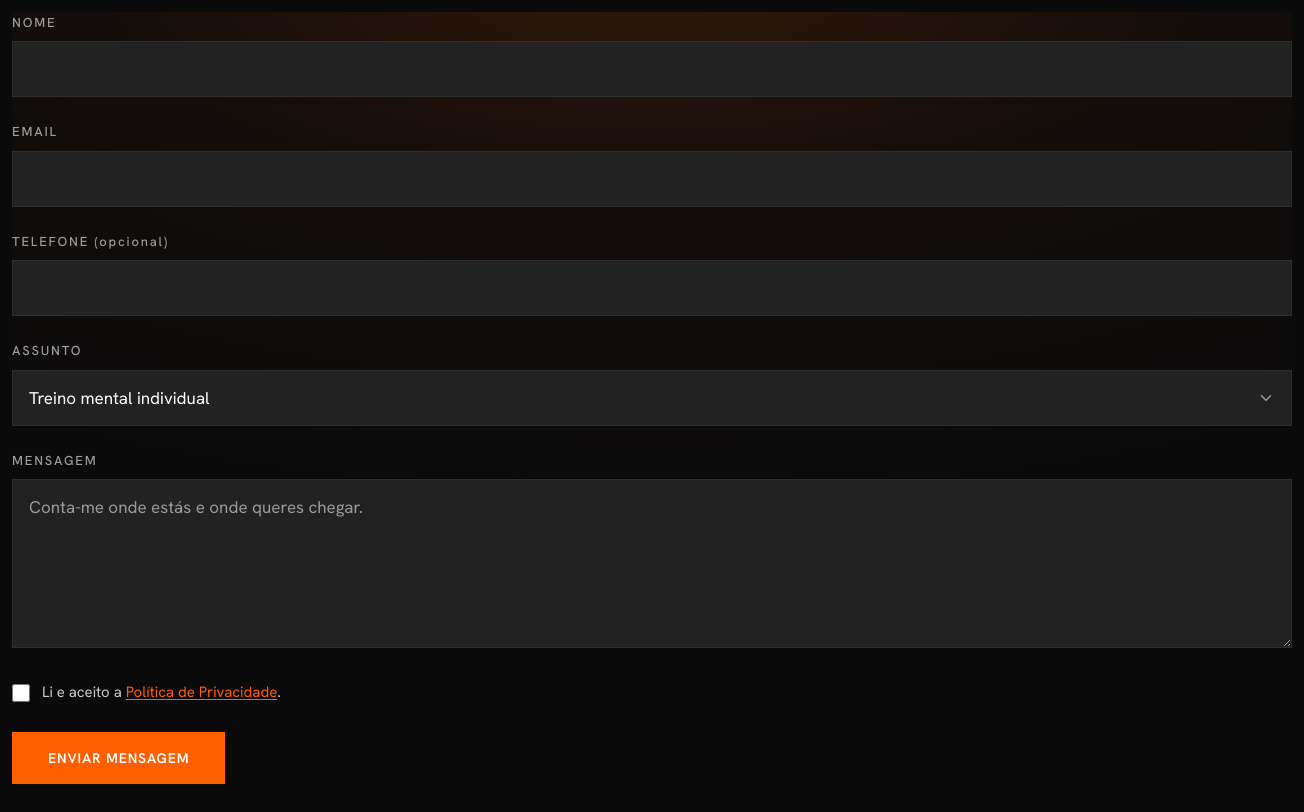
Test: ContactForm › posts the selected subject and entered fields to Formspree
Type "912345678" into the field labelled "Telefone (opcional)" at (652, 288), box [12,260,1292,316]
Select "Palestra / formação" in the dropdown labelled "Assunto" at (652, 398), box [12,370,1292,426]
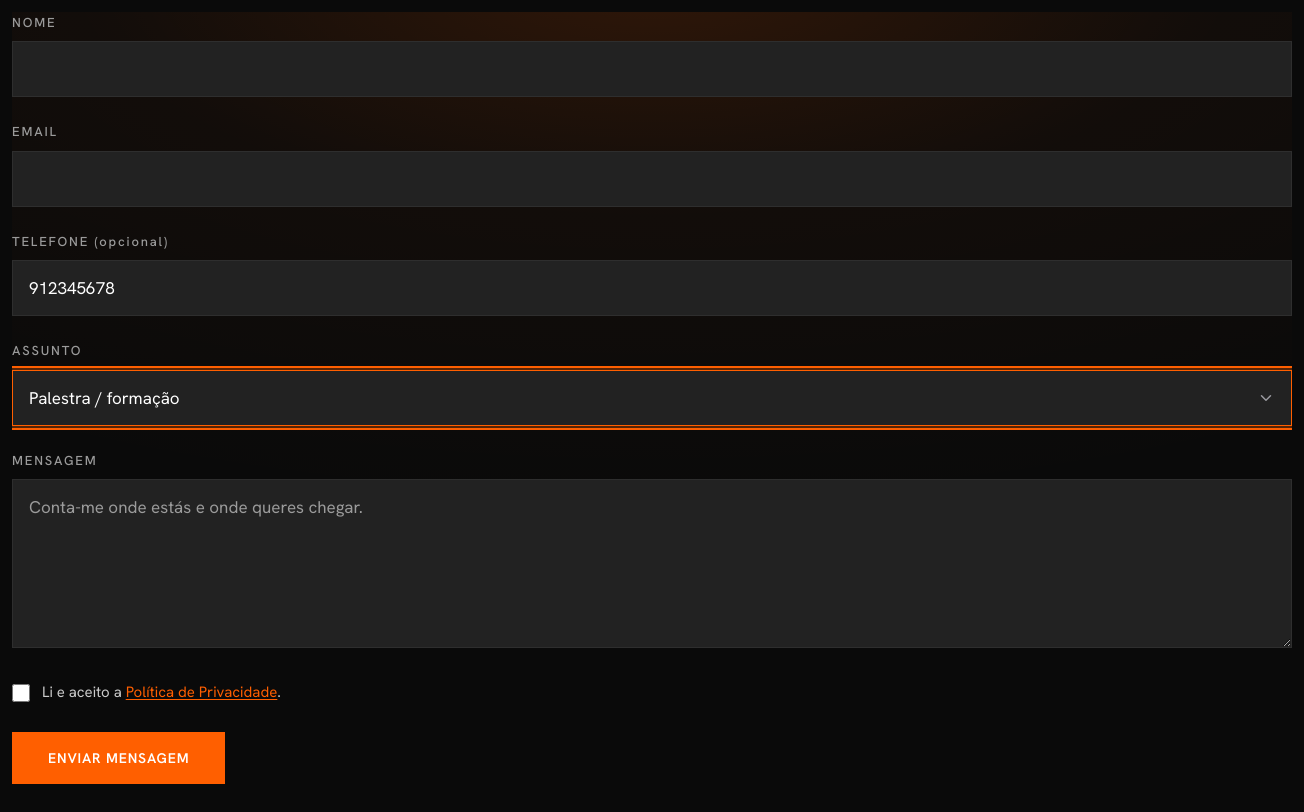
Type "Ana Silva" into the field labelled "Nome" at (652, 69), box [12,41,1292,97]
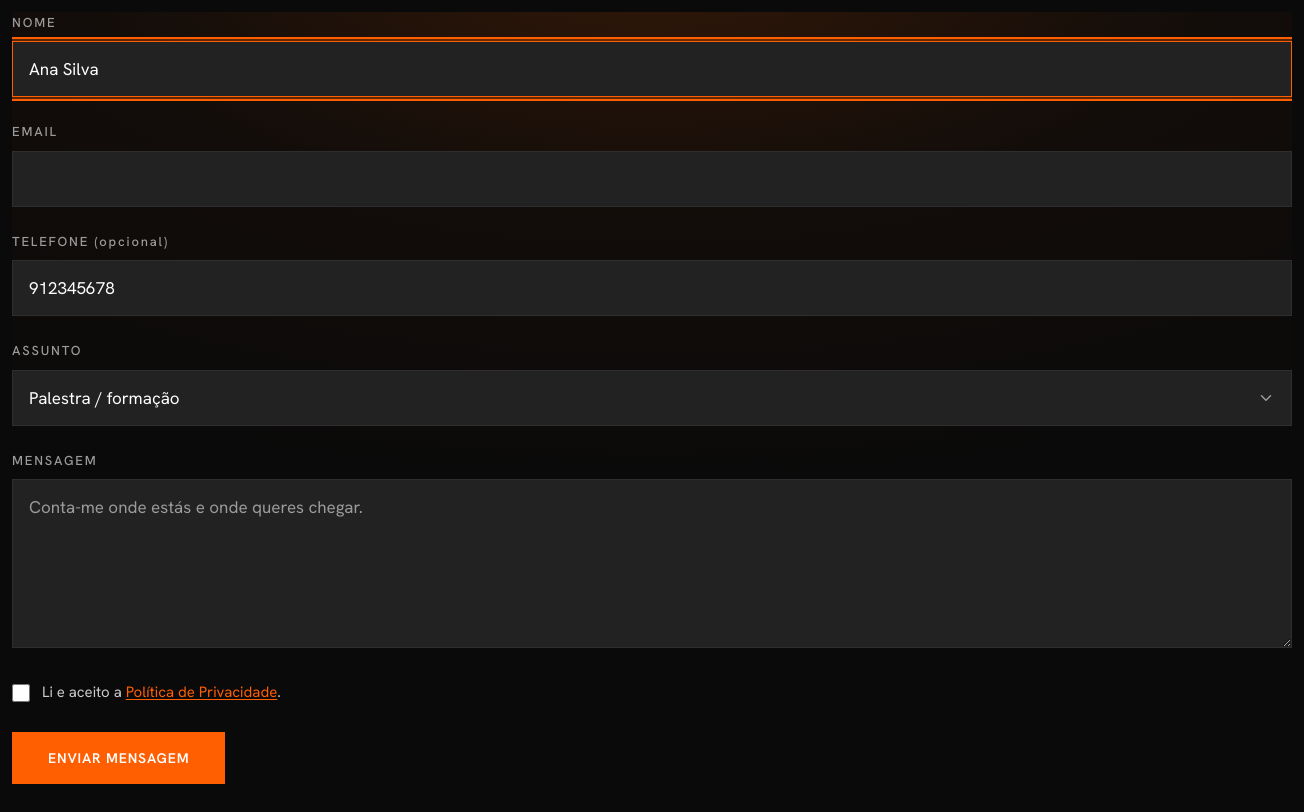
Type "ana@example.com" into the field labelled "Email" at (652, 179), box [12,151,1292,207]
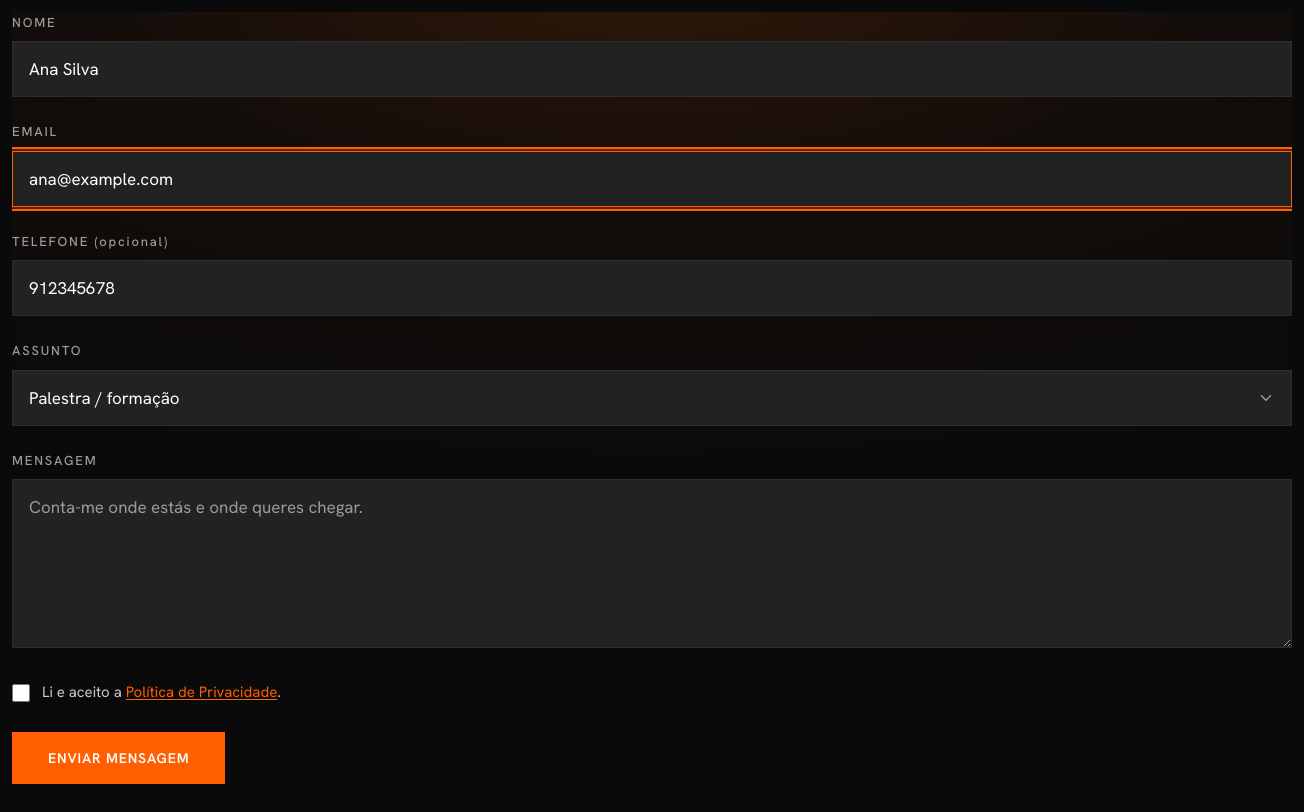
Type "Quero saber mais." into the text box labelled "Mensagem" at (652, 564), box [12,479,1292,648]
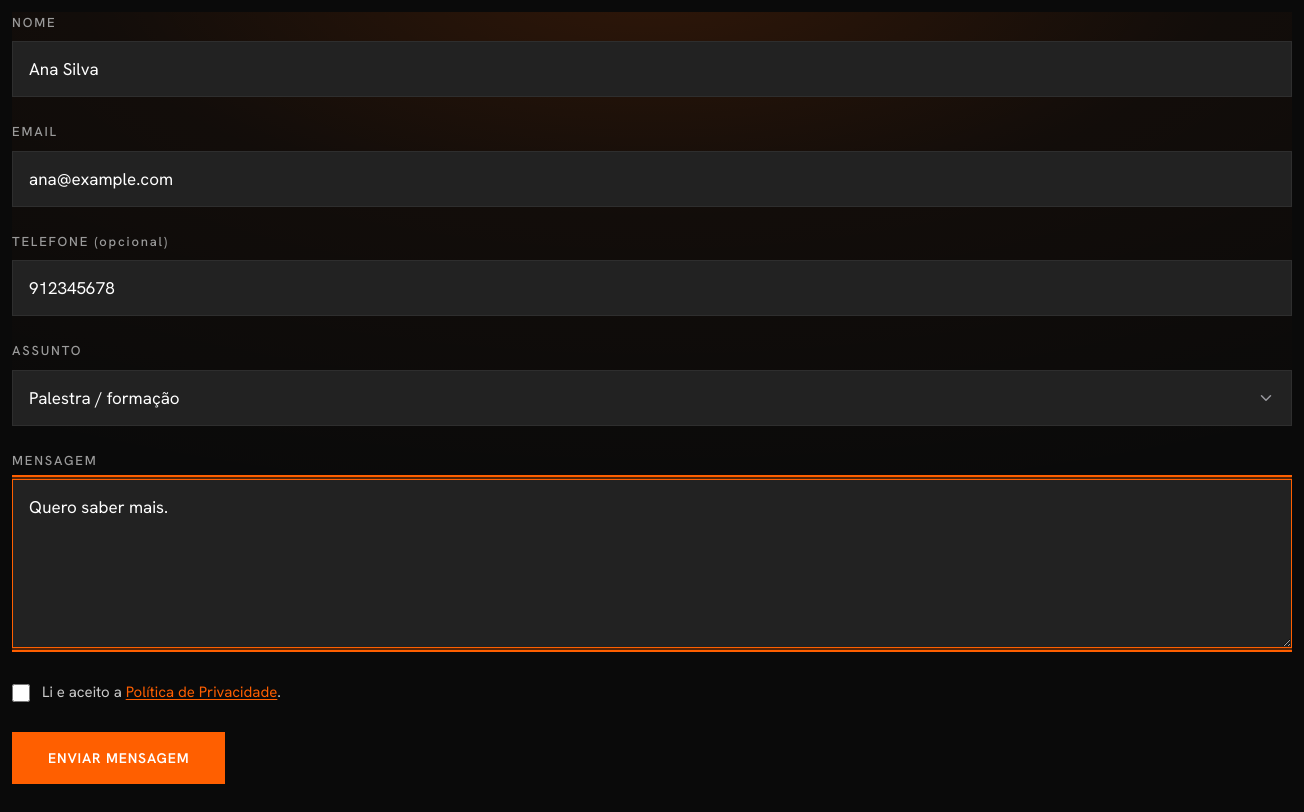
Click the checkbox at (21, 693), box [12,684,30,702]
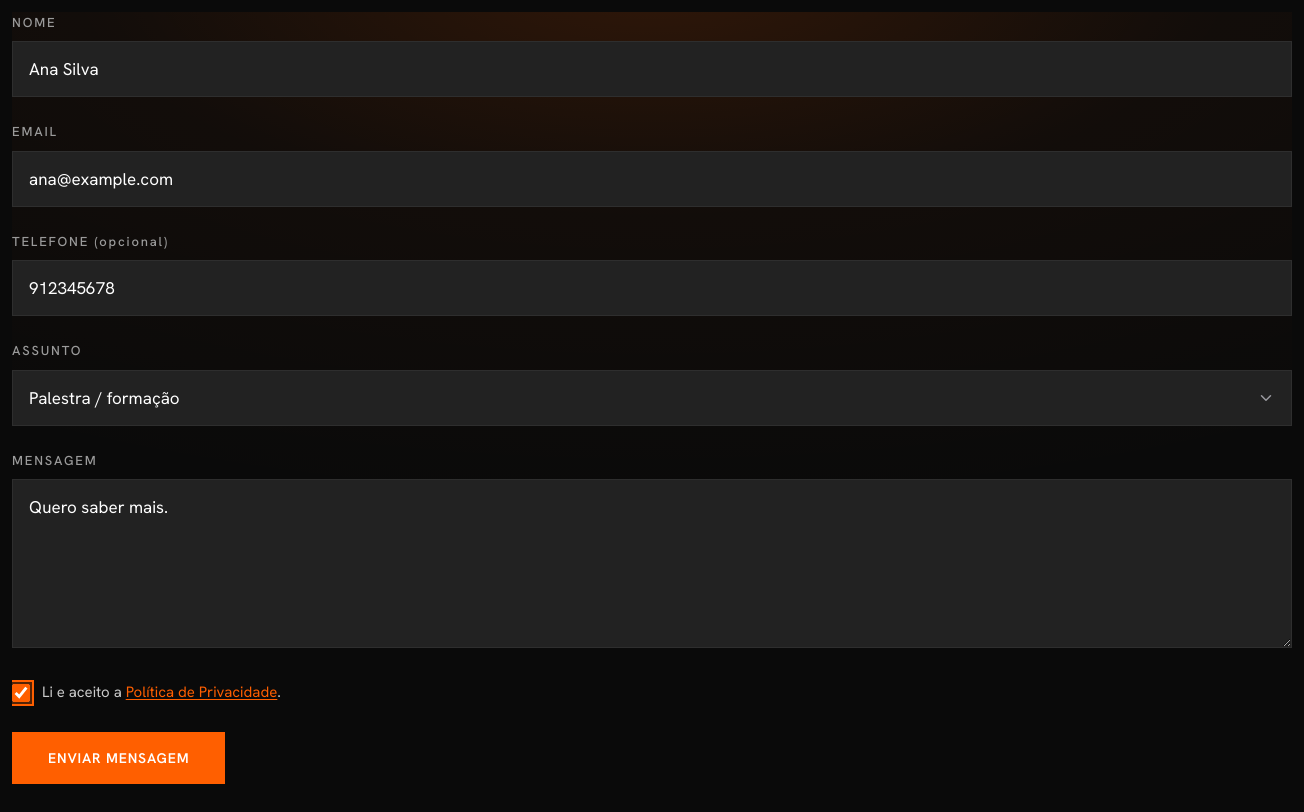
Click the button "Enviar mensagem" at (119, 758), box [12,732,225,784]
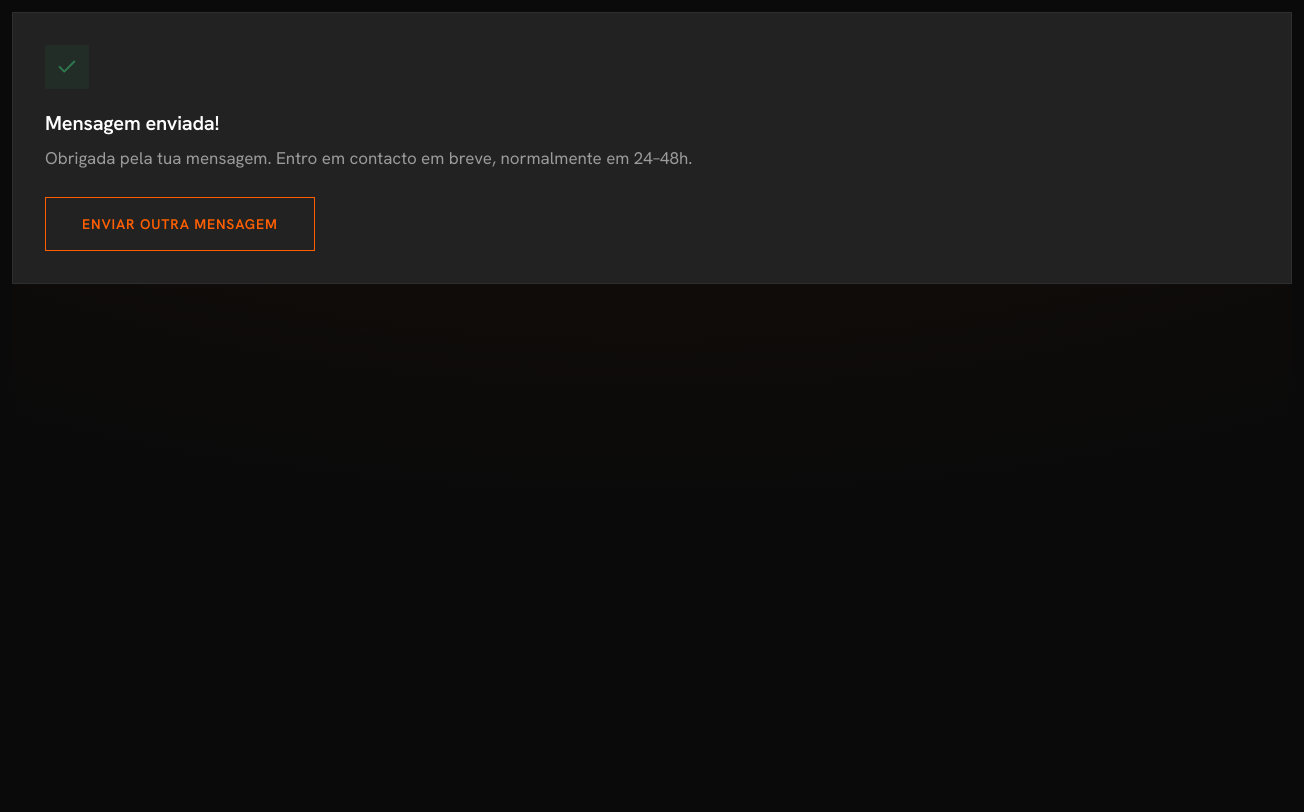
Expected: the message shows "Mensagem enviada!", [45,110,219,136]
